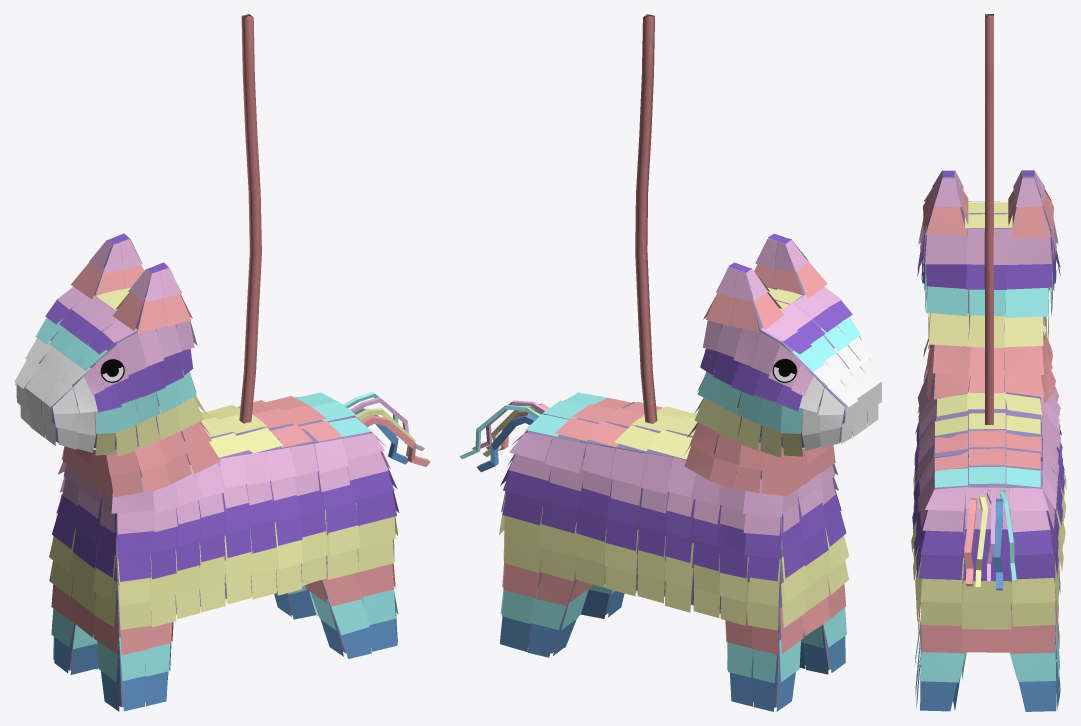
File: lama_cut.fbx
3 renders of one model, left to right at view 1: azimuth 30°, elevation 25°; view 2: azimuth 150°, elevation 25°; view 3: azimuth 270°, elevation 25°, orthographic.
Parts seen in each view (by area): view 1: body, head, booty, rope; view 2: body, head, booty, rope; view 3: booty, head, body, rope.
Boxes of the visible parts, x1,y1,x2,y2 form: body: (49, 400, 327, 711); head: (14, 233, 220, 498); booty: (266, 391, 430, 658); rope: (239, 14, 261, 423); body: (575, 401, 849, 711); head: (684, 233, 882, 496); booty: (459, 392, 630, 657); rope: (635, 14, 657, 423); booty: (913, 448, 1060, 711); head: (917, 170, 1060, 403); body: (911, 370, 1066, 593); rope: (984, 14, 993, 424).
Bounding box in the file's own units: 3.18 × 4.9 × 1.08.
Materials: 1 (1 with a texture image).
